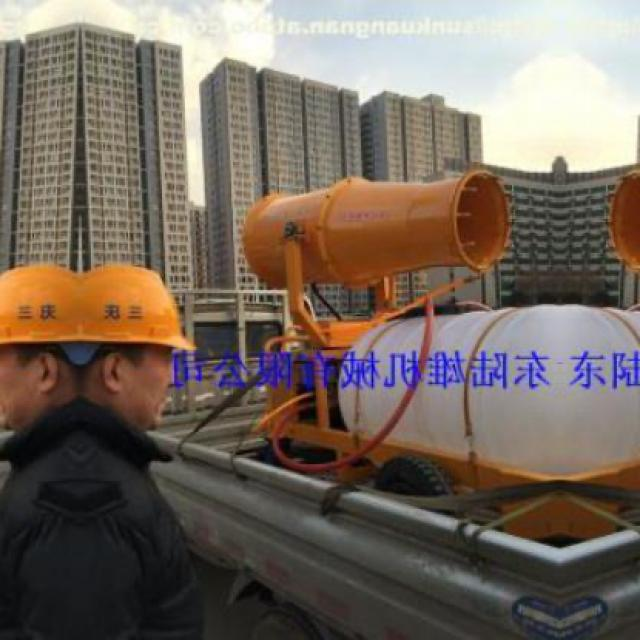helmet: (82, 253, 202, 441), (2, 253, 77, 443)
